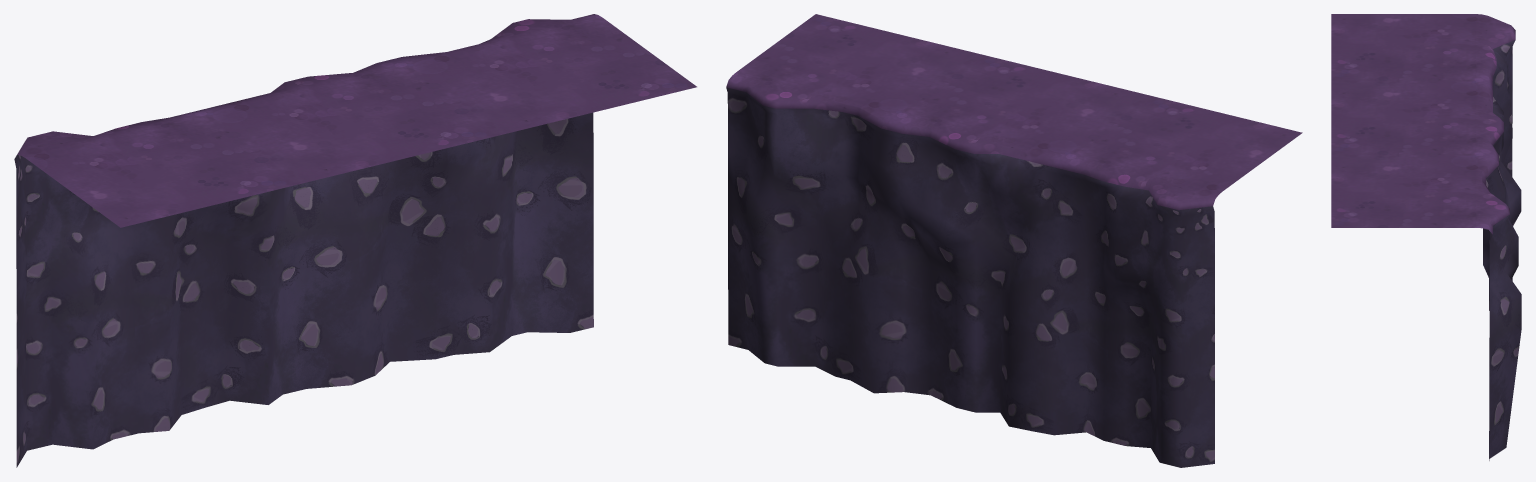
File: trottoir.fbx
3 views of the same model, side by side, from view 1: azimuth 30°, elevation 25°; view 2: azimuth 150°, elevation 25°; view 3: azimuth 270°, elevation 25° (orthographic). The views are drawn at different scales.
Visible parts, largest first — view 1: trottoir; view 2: trottoir; view 3: trottoir.
Part boxes in pixels (left/top/right/bottom): trottoir: left=14, top=14, right=696, bottom=467; trottoir: left=726, top=14, right=1302, bottom=467; trottoir: left=1331, top=14, right=1521, bottom=460.
Bounding box in the file's own units: 73.98 × 38.74 × 27.8.
